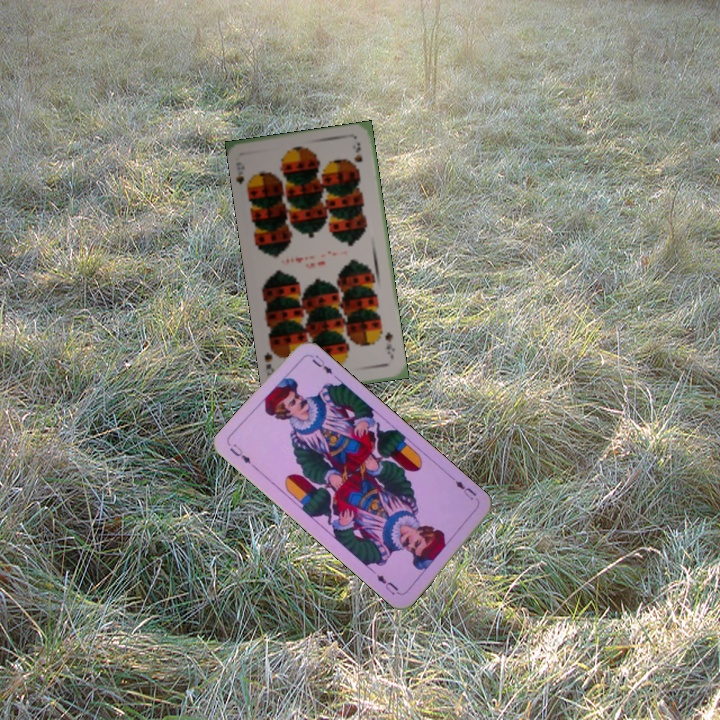EU: (225, 439, 260, 472), (448, 474, 479, 503)
S9: (233, 167, 254, 194), (381, 328, 398, 361)
